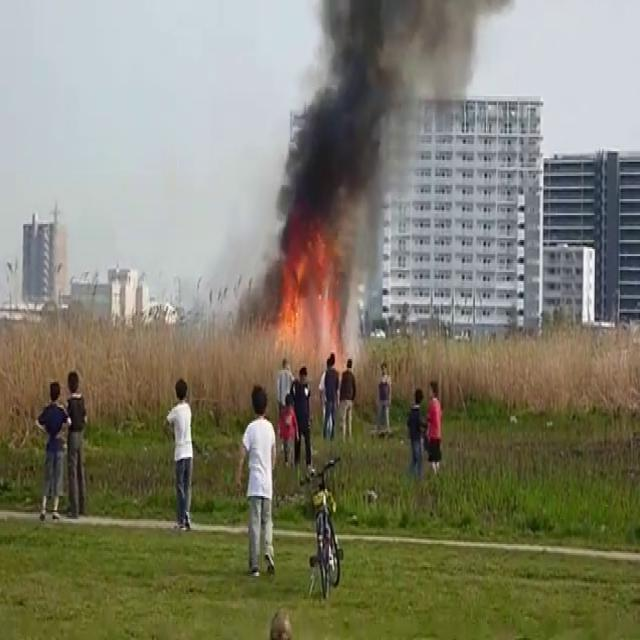Fire: (265, 235, 346, 362)
Smoke: (263, 2, 469, 306)
